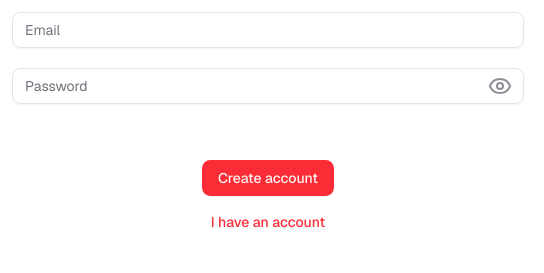
Test case: SignupForm (unit) › requires password to include at least 1 digit
Type "user@example.com" into the field with placeholder "Email" at (268, 30), box [12, 12, 524, 48]
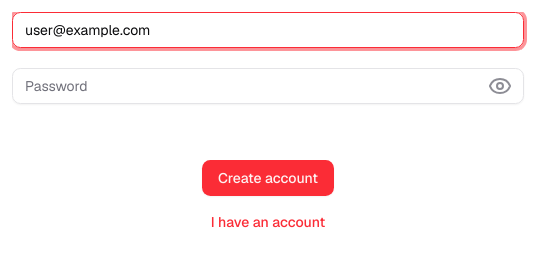
Type "abcdef" into the password field with placeholder "Password" at (268, 86), box [12, 68, 524, 104]
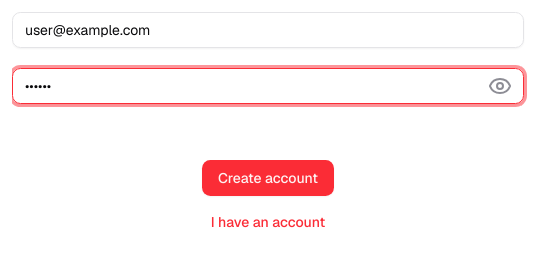
Click the button "Create account" at (268, 178), box [202, 160, 334, 196]
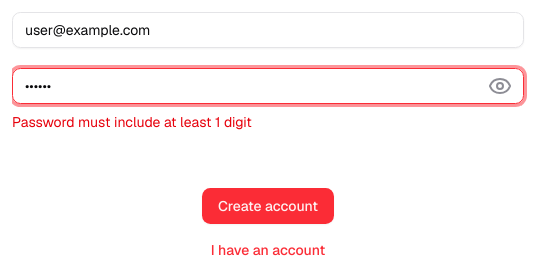
Check: the text "Password must include at least 1 digit" is shown, box [12, 113, 252, 131]
